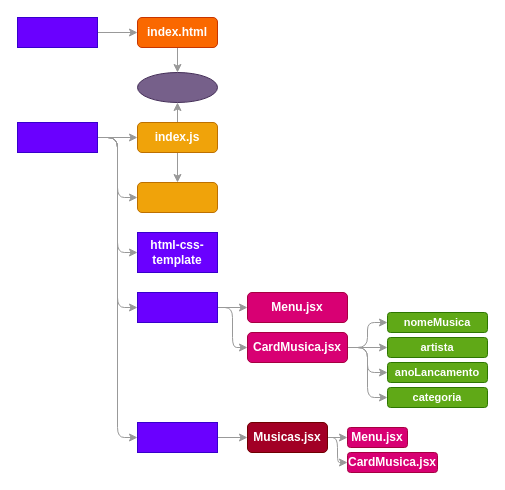
Image size: 505x490. Some labels were removed from this diagram. The shapes that lost their labels are listed below. From the top down, each one's centre as x and y in pixels, then its label:
(x=57, y=32): public
(x=177, y=87): div= "root
(x=57, y=137): src
(x=177, y=197): App.js
(x=177, y=307): components
(x=177, y=437): pages
